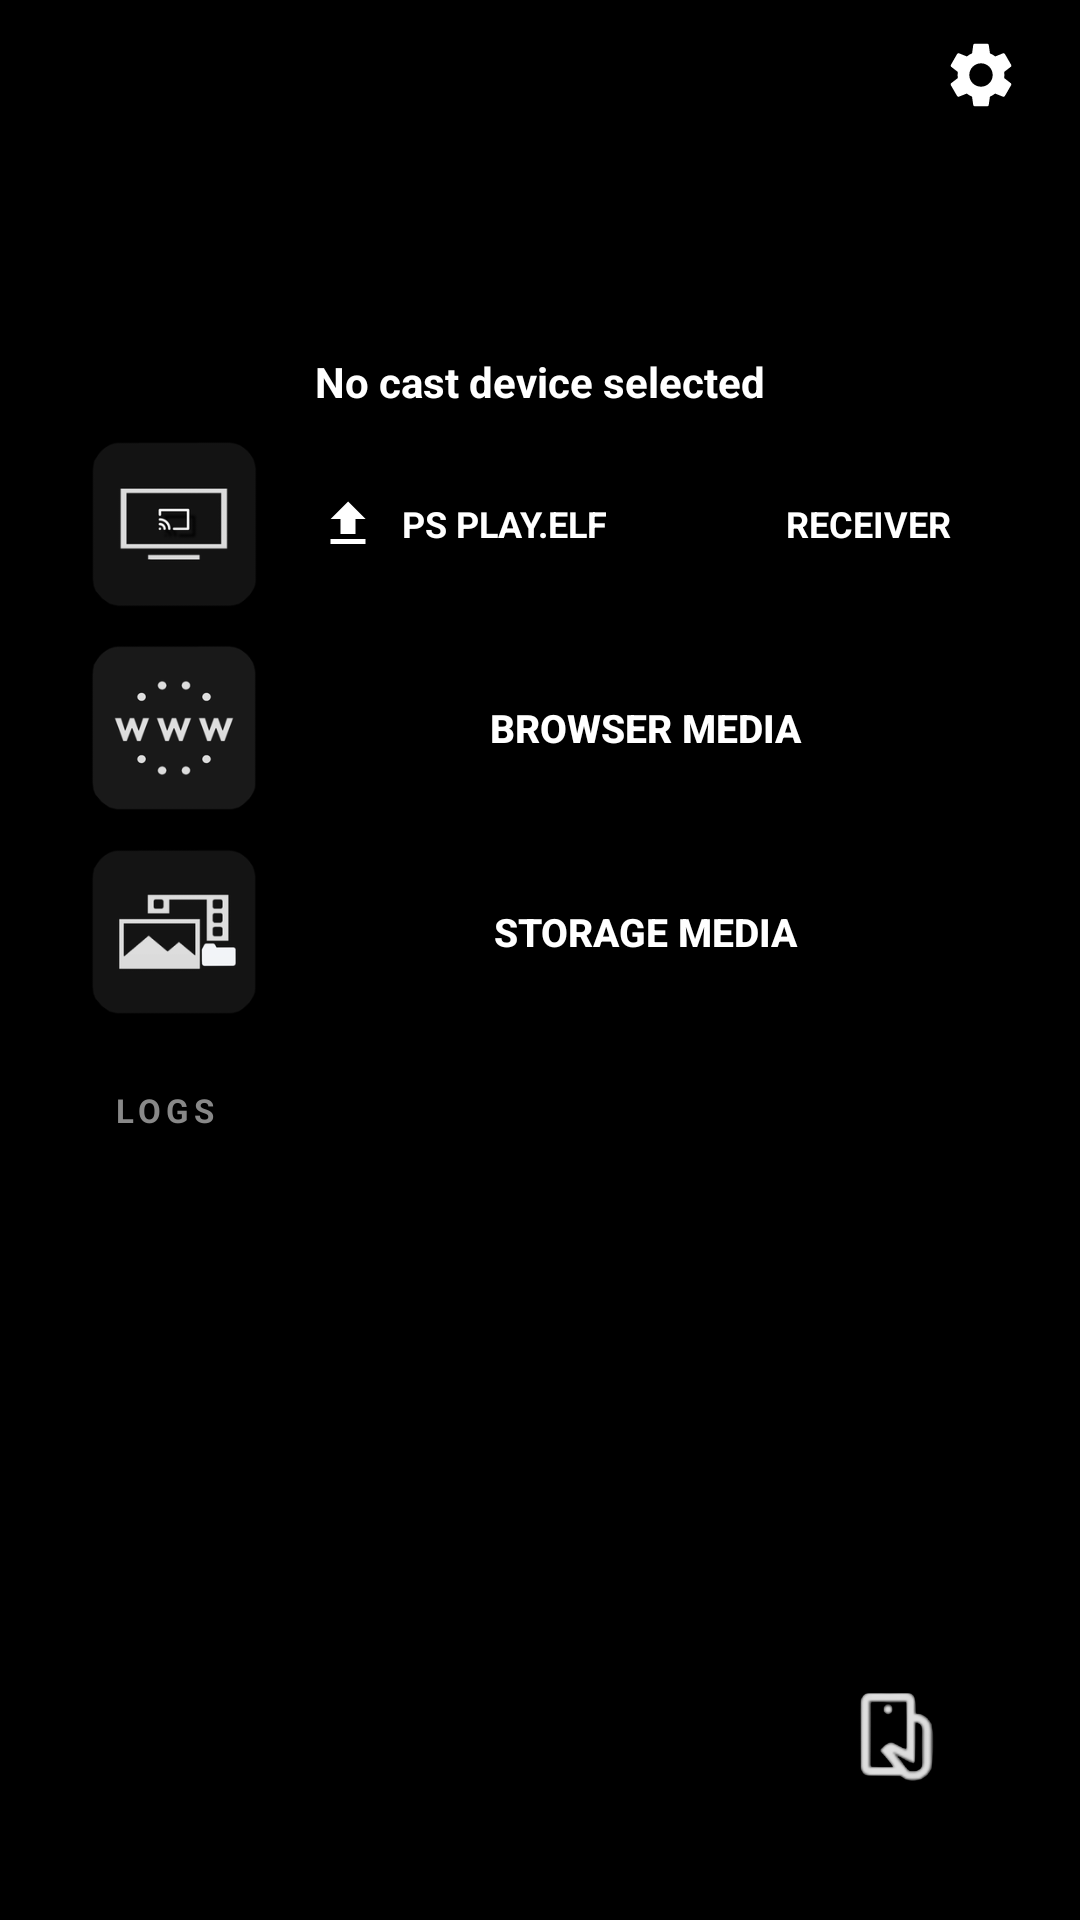

Screen size 1080w x 1920h. Icon name, then its box in pixels as (x1, y1, x2, y2):
Remote: (860, 1693, 933, 1781)
Settings: (950, 43, 1012, 107)
upload: (330, 501, 366, 544)
